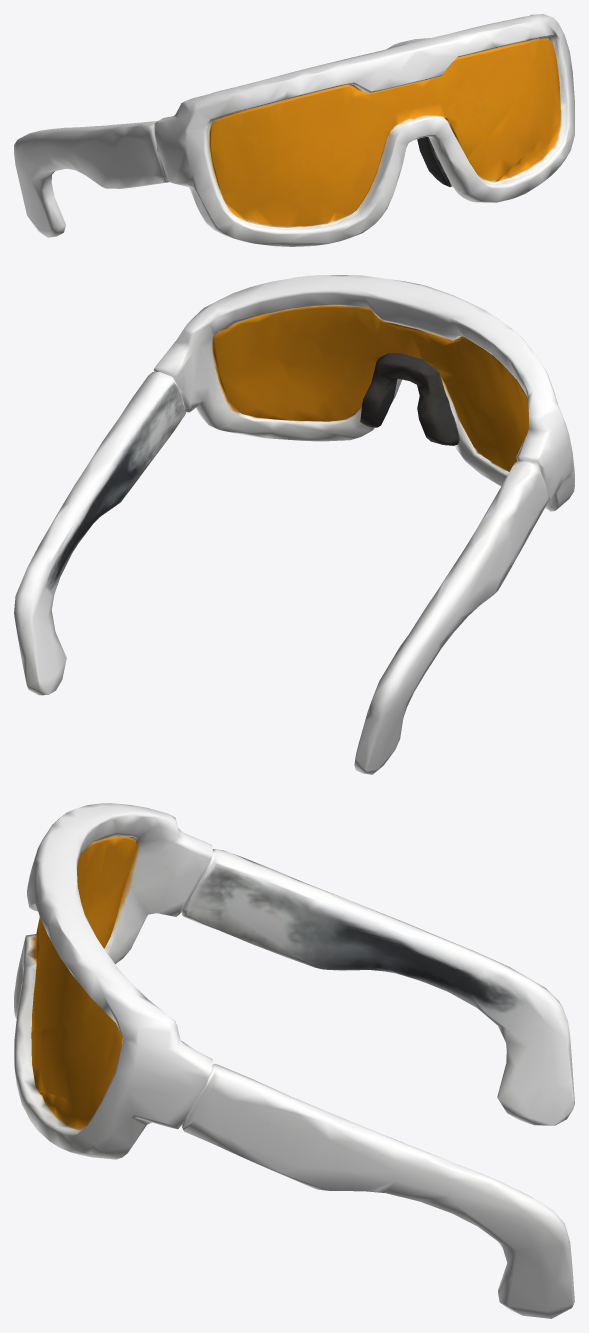
The model's file is glasses-gold.glb.
3 views of the same model, one above another, from view 1: azimuth 30°, elevation 25°; view 2: azimuth 150°, elevation 25°; view 3: azimuth 270°, elevation 25° (orthographic). The views are drawn at different scales.
Parts seen in each view (by area): view 1: glasses-gold; view 2: glasses-gold; view 3: glasses-gold.
Boxes of the visible parts, box(x1,y1,x2,y2) form: glasses-gold: box(14, 14, 574, 246); glasses-gold: box(14, 275, 574, 774); glasses-gold: box(14, 803, 574, 1318).
Size of the model in its own units: 0.9864 by 0.7042 by 1.
Materials: 1 (1 with a texture image).
